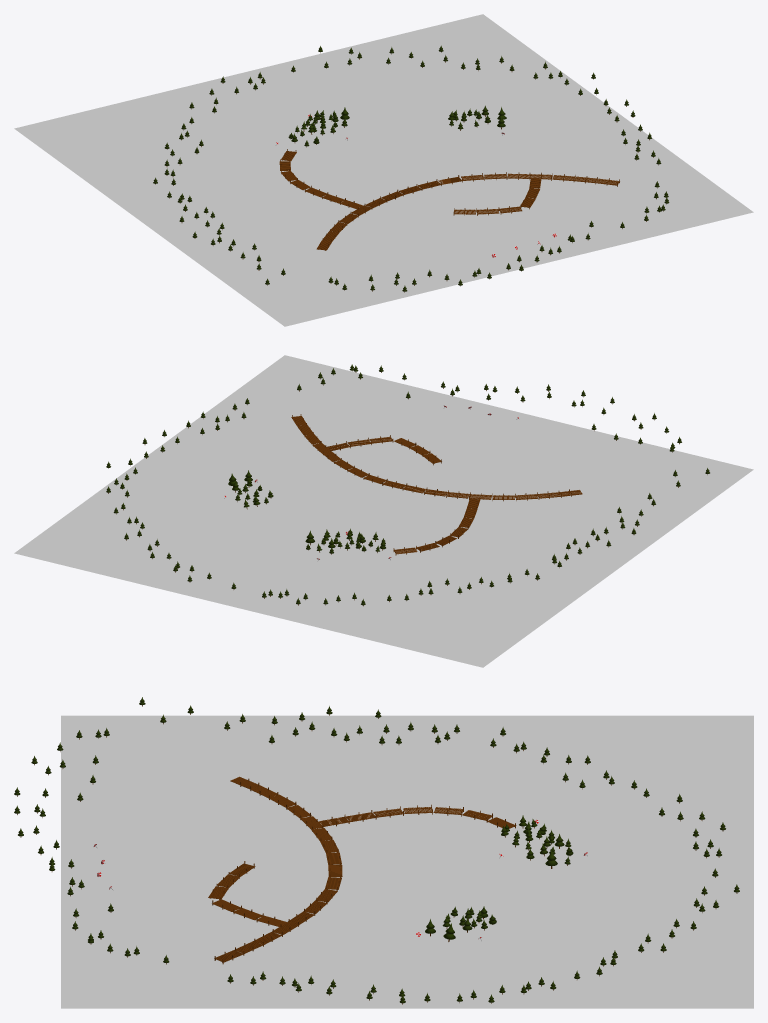
The model's file is level_details.dae.
3 renders of one model, top to bottom at view 1: azimuth 30°, elevation 25°; view 2: azimuth 150°, elevation 25°; view 3: azimuth 270°, elevation 25°, orthographic. The views are drawn at different scales.
Visible parts, largest first — view 1: water; view 2: water; view 3: water.
Part boxes in pixels (<box>): water: <box>14,14,753,326</box>; water: <box>14,355,753,667</box>; water: <box>61,715,753,1008</box>.
Size of the model in its own units: 591 by 618 by 29.79.
